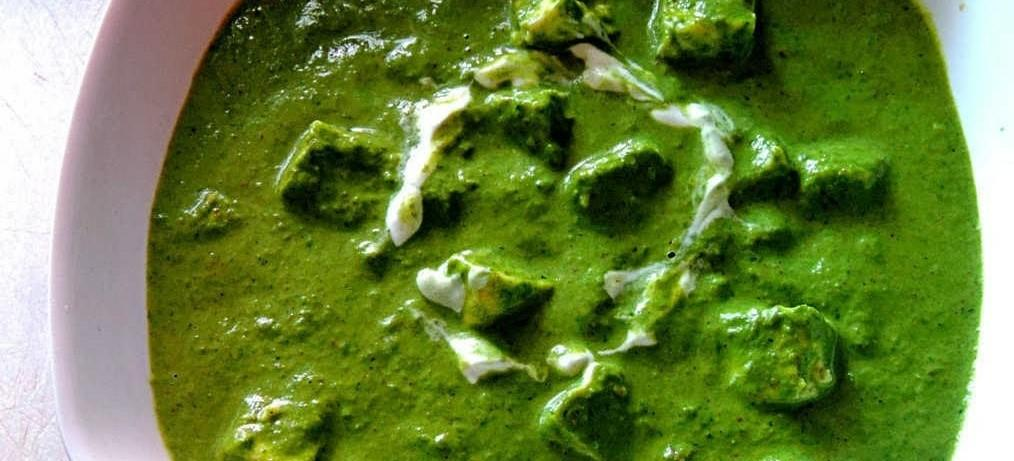PalakPaneer: (144, 0, 982, 461)
